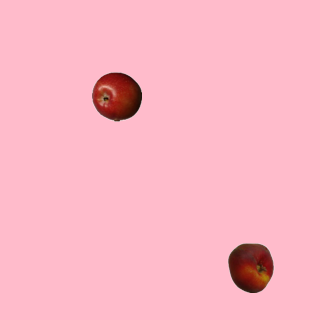Apple Braeburn: (91, 71, 141, 121)
Nectarine Flat: (225, 242, 275, 292)
